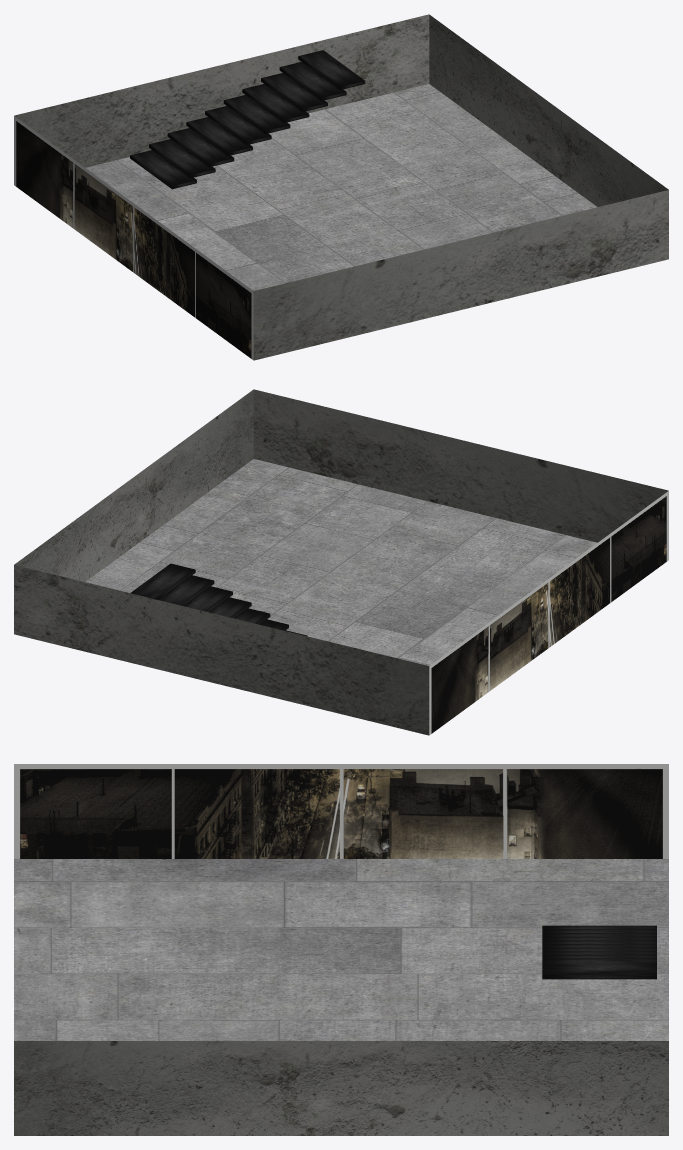
The model's file is high_rise.fbx.
The picture shows the model from 3 angles, top to bottom: view 1: azimuth 30°, elevation 25°; view 2: azimuth 150°, elevation 25°; view 3: azimuth 270°, elevation 25°; orthographic projection. The views are drawn at different scales.
Parts seen in each view (by area): view 1: 1st_walls, 1st_floor, 1st_window, step; view 2: 1st_walls, 1st_floor, 1st_window, step; view 3: 1st_floor, 1st_window, 1st_walls, step.
Boxes of the visible parts, <box> form: 1st_walls: <box>14,14,668,360</box>; 1st_floor: <box>85,84,597,290</box>; 1st_window: <box>14,116,253,360</box>; step: <box>130,50,365,189</box>; 1st_walls: <box>14,389,668,735</box>; 1st_floor: <box>85,459,597,665</box>; 1st_window: <box>429,491,668,735</box>; step: <box>130,563,307,636</box>; 1st_floor: <box>14,859,668,1040</box>; 1st_window: <box>14,764,668,858</box>; 1st_walls: <box>14,1041,668,1135</box>; step: <box>542,925,656,979</box>.
Size of the model in its own units: 5000 by 800 by 5000.
4 materials, 4 textured.
